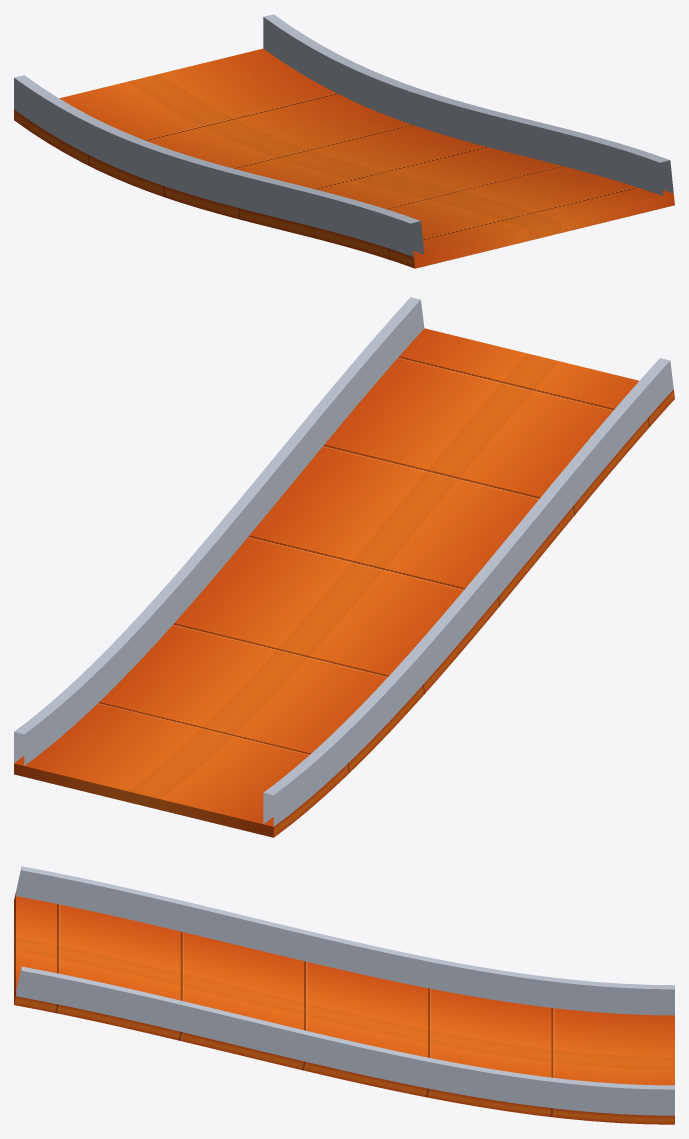
The model's file is ramp-up-1.6.glb.
The picture shows the model from 3 angles, top to bottom: view 1: azimuth 30°, elevation 25°; view 2: azimuth 150°, elevation 25°; view 3: azimuth 270°, elevation 25°; orthographic projection. The views are drawn at different scales.
Bounding box in the file's own units: 3 × 2.06 × 8.02.
2 materials, 1 textured.
